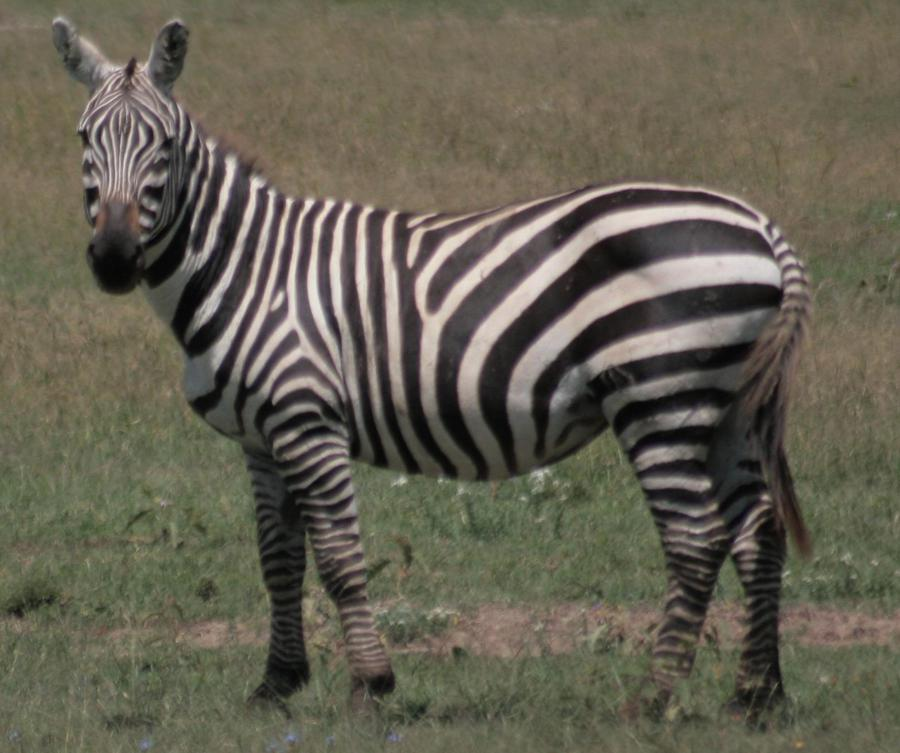zebra_plains: (187, 148, 755, 501)
